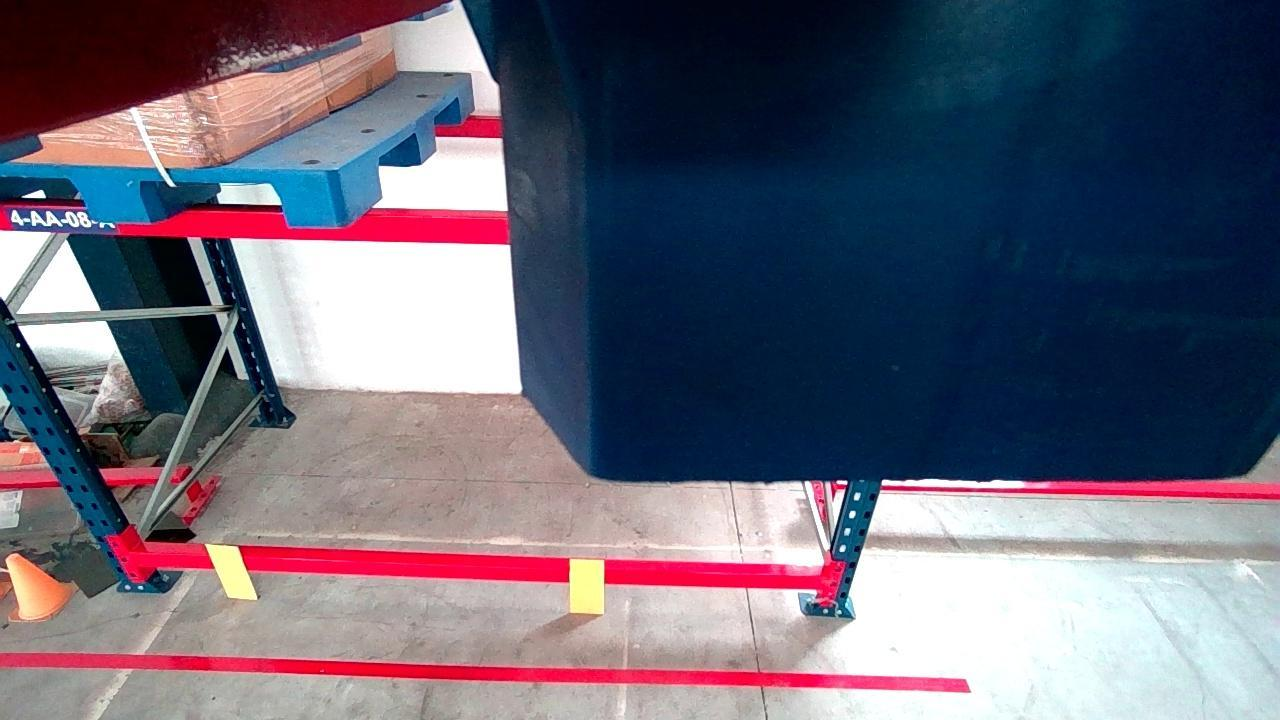h_rack: (129, 551, 820, 589), (0, 205, 508, 242)
orange_strip: (205, 545, 255, 599), (569, 560, 603, 611)
red_line: (0, 653, 970, 693)
small_pallet: (2, 167, 346, 222)
